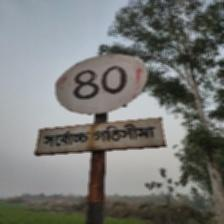Speed-limit: (36, 50, 163, 155)
